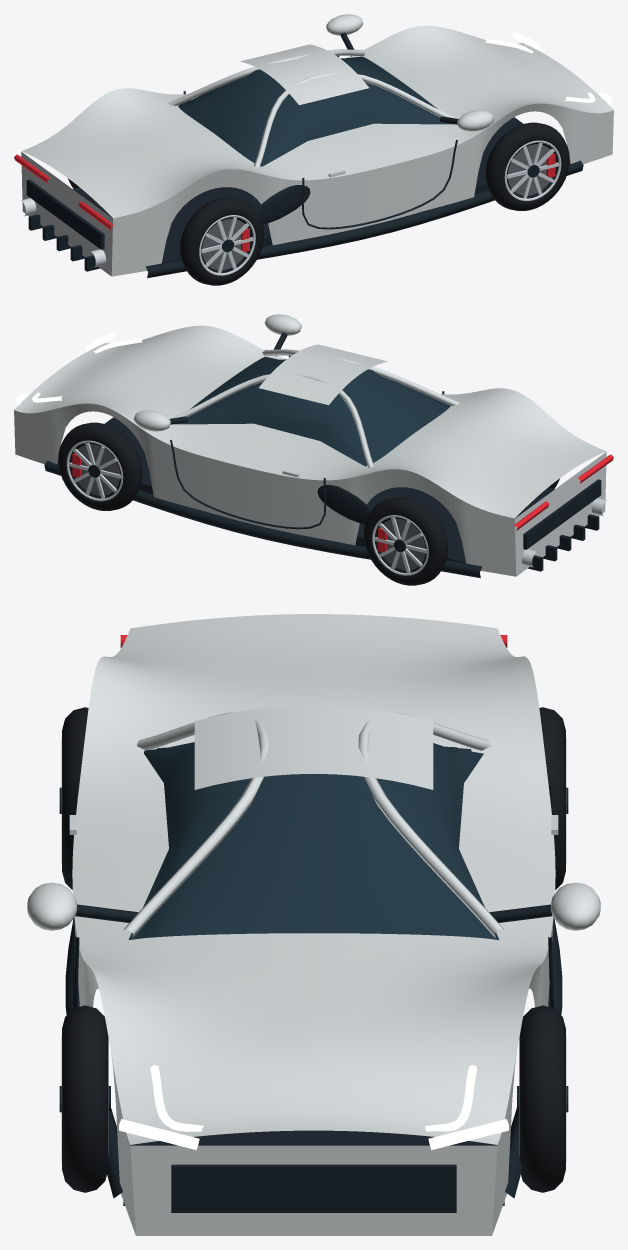
File: car27.glb
The picture shows the model from 3 angles, top to bottom: view 1: azimuth 30°, elevation 25°; view 2: azimuth 150°, elevation 25°; view 3: azimuth 270°, elevation 25°; orthographic projection. The views are drawn at different scales.
Visible parts, largest first — view 1: CAR27, rim (×2); view 2: CAR27, rim (×2); view 3: CAR27, front-grille.
Boxes of the visible parts, box(x1,y1,x2,y2) form: CAR27: box(14, 14, 613, 285); rim (×2): box(199, 140, 561, 275); CAR27: box(14, 314, 613, 585); rim (×2): box(66, 440, 428, 575); CAR27: box(27, 614, 600, 1235); front-grille: box(171, 1164, 456, 1212).
Size of the model in its own units: 4.69 by 1.23 by 2.25.
